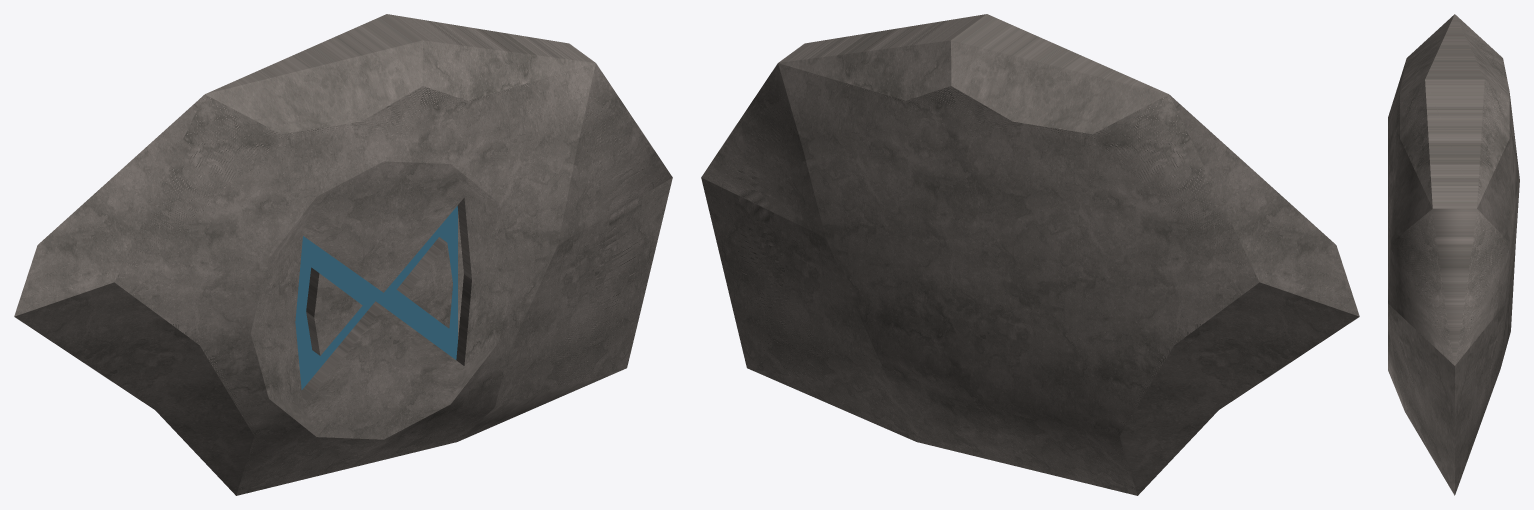
The model's file is Acceleration_DefenseCooldown.fbx.
The picture shows the model from 3 angles, left to right: view 1: azimuth 30°, elevation 25°; view 2: azimuth 150°, elevation 25°; view 3: azimuth 270°, elevation 25°; orthographic projection. The views are drawn at different scales.
Parts seen in each view (by area): view 1: Acceleration_D Rune; view 2: Acceleration_D Rune; view 3: Acceleration_D Rune.
Part boxes in pixels (left/top/right/bottom): Acceleration_D Rune: left=14, top=14, right=672, bottom=495; Acceleration_D Rune: left=701, top=14, right=1359, bottom=495; Acceleration_D Rune: left=1388, top=14, right=1519, bottom=495.
Size of the model in its own units: 67.57 by 41.92 by 14.18.
Materials: 1 (1 with a texture image).
